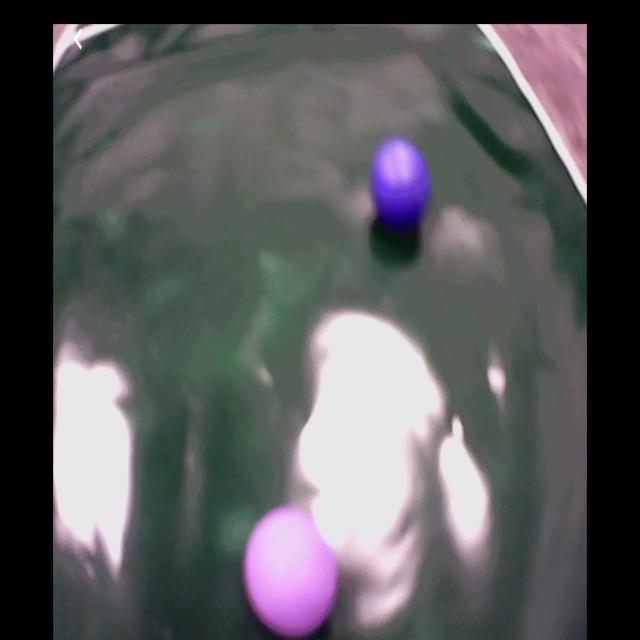ball: (245, 509, 336, 637), (372, 142, 428, 229)
